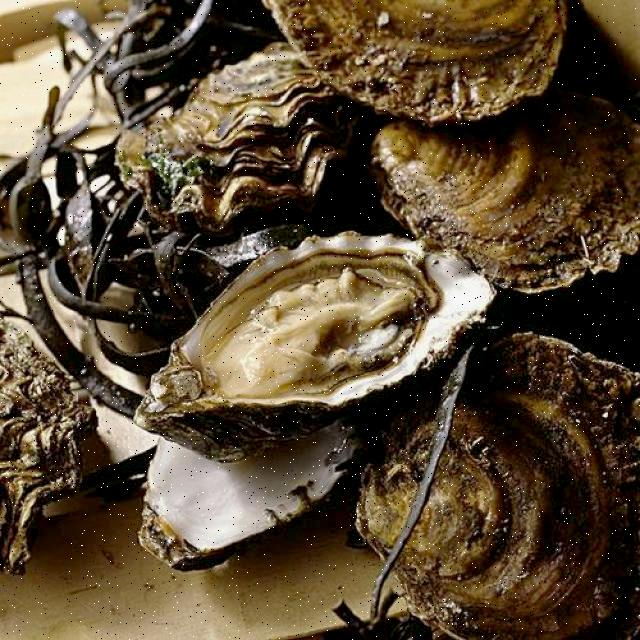Oyster-Closed: (355, 328, 640, 640), (368, 85, 640, 291), (121, 41, 366, 229), (263, 0, 575, 124), (0, 312, 100, 578)
Oyster-Open: (134, 228, 498, 432), (134, 424, 353, 580)
